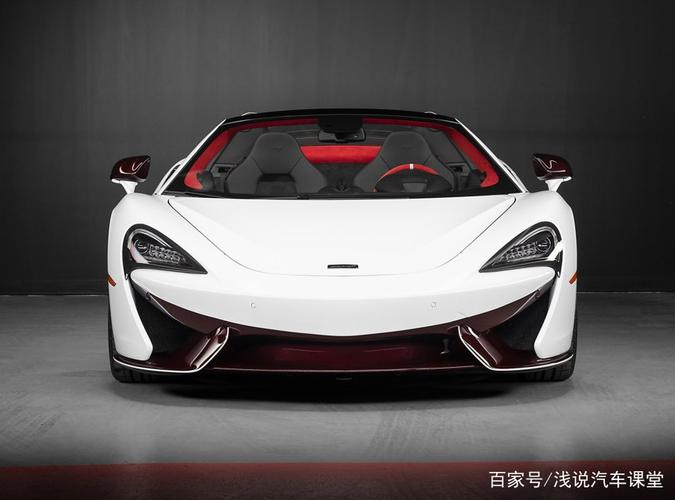汽车: (91, 101, 587, 405)
